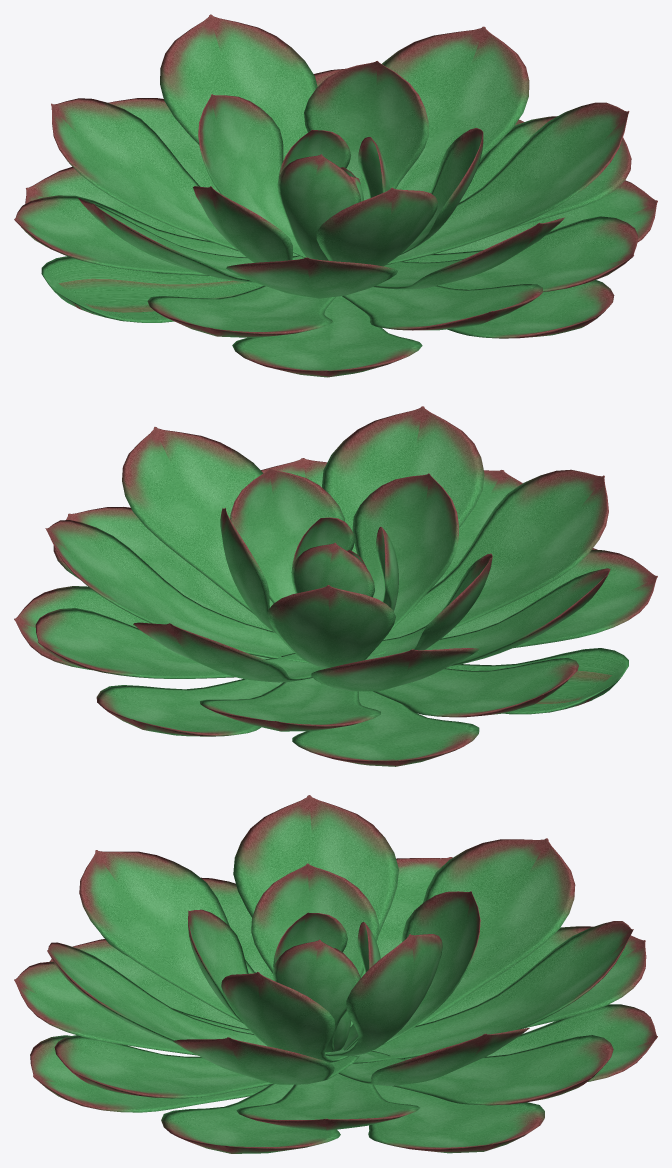
File: Pink Echeveria.FBX
The picture shows the model from 3 angles, top to bottom: view 1: azimuth 30°, elevation 25°; view 2: azimuth 150°, elevation 25°; view 3: azimuth 270°, elevation 25°; orthographic projection.
Visible parts, largest first — view 1: Pink Echeveria; view 2: Pink Echeveria; view 3: Pink Echeveria.
Boxes of the visible parts, x1,y1,x2,y2 form: Pink Echeveria: (14,14,657,377); Pink Echeveria: (14,406,657,766); Pink Echeveria: (14,795,657,1153).
Bounding box in the file's own units: 74.99 × 23 × 74.44.
Materials: 1 (1 with a texture image).
